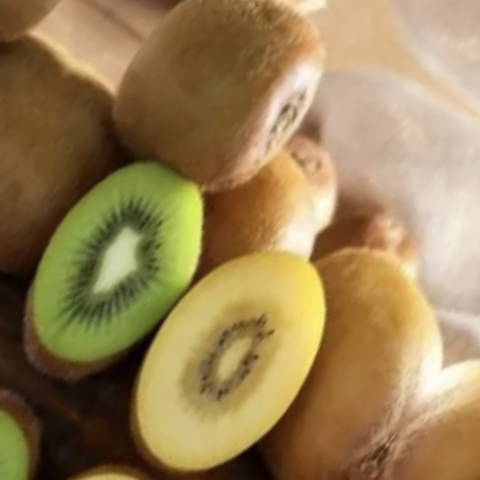kiwi: (164, 181, 480, 480), (80, 0, 371, 226)
